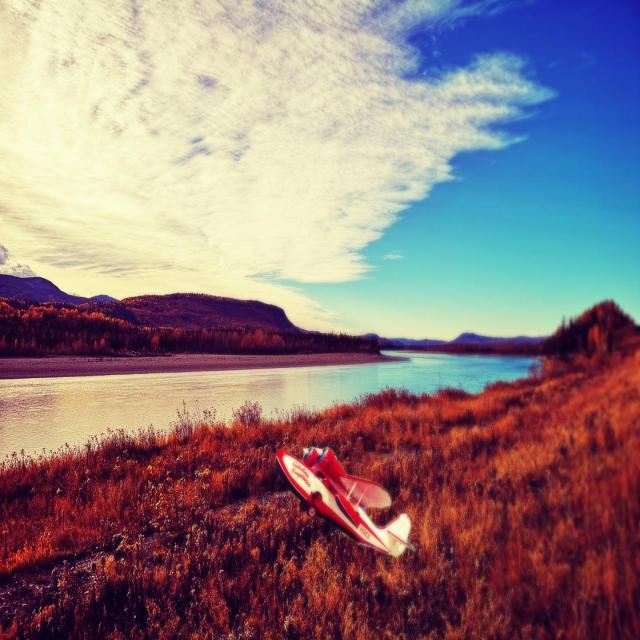airplane: (274, 444, 416, 558)
